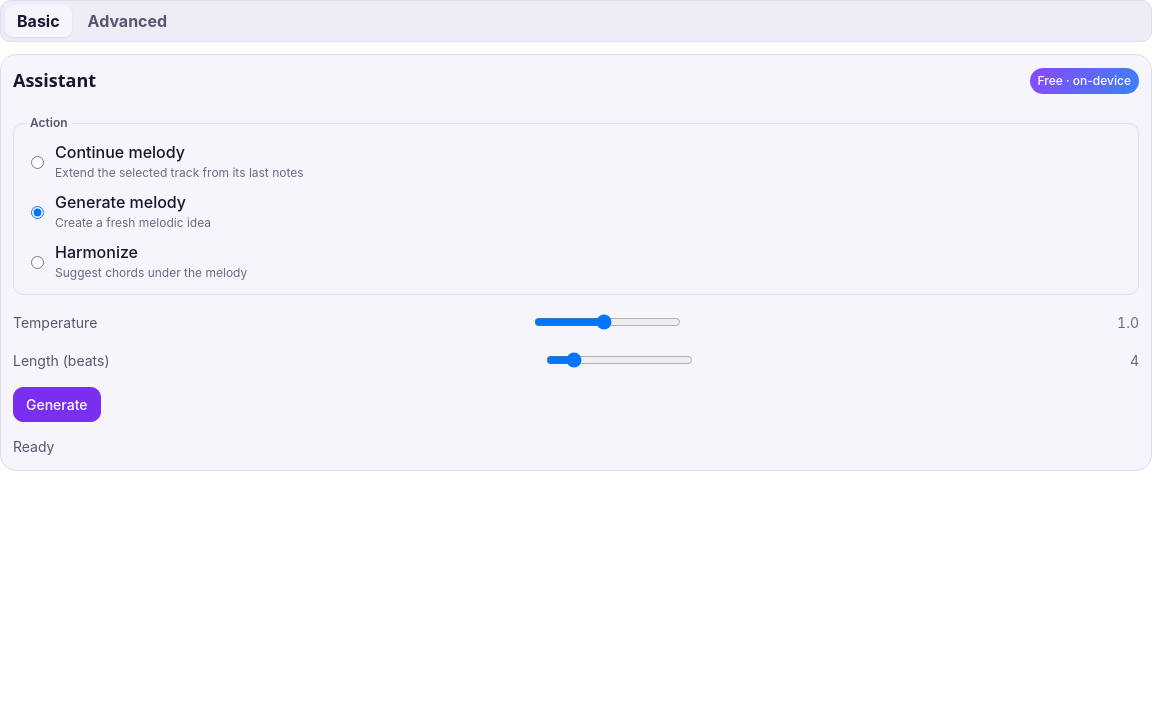
Test case: <AiInspector /> › keeps Basic active until Advanced is requested
Check: the element named "AI Assistant" is shown, box x1=0 y1=54 x2=1151 y2=471
Check: the element "AI Studio" is not shown
Step 1. Click the tab "Advanced" → (127, 21), box x1=76 y1=5 x2=179 y2=37
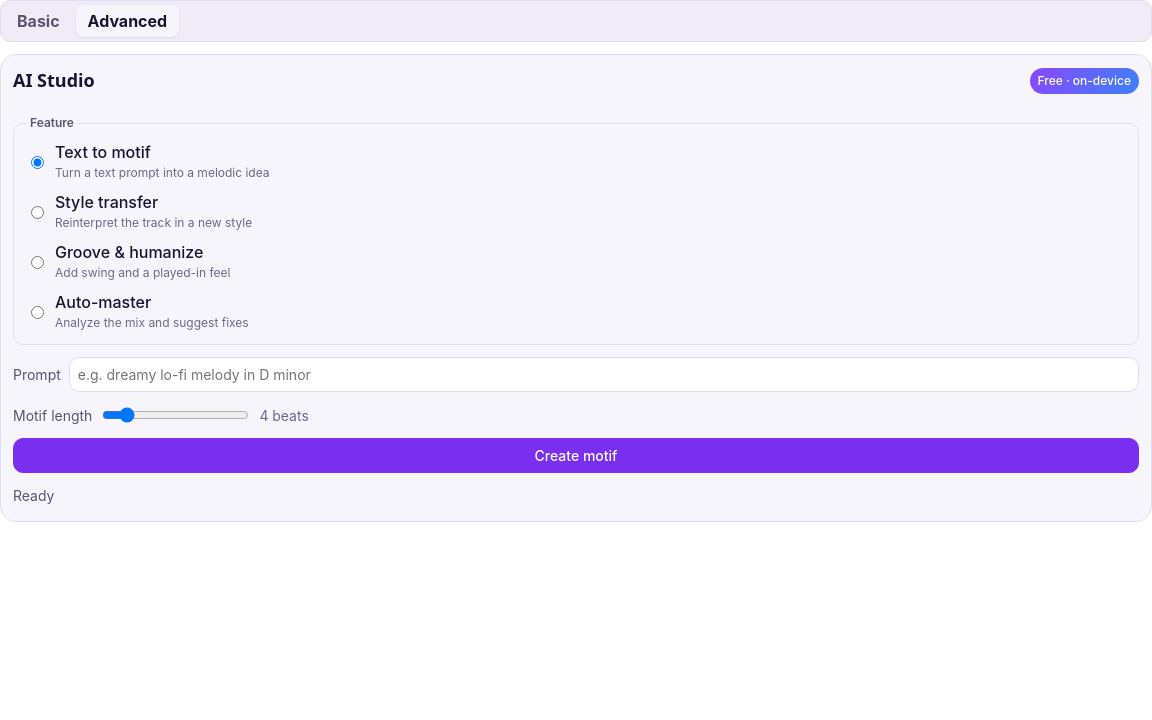
Check: the element "AI Studio" is shown
Check: the panel with id "ai-inspector-basic-panel" is gone
